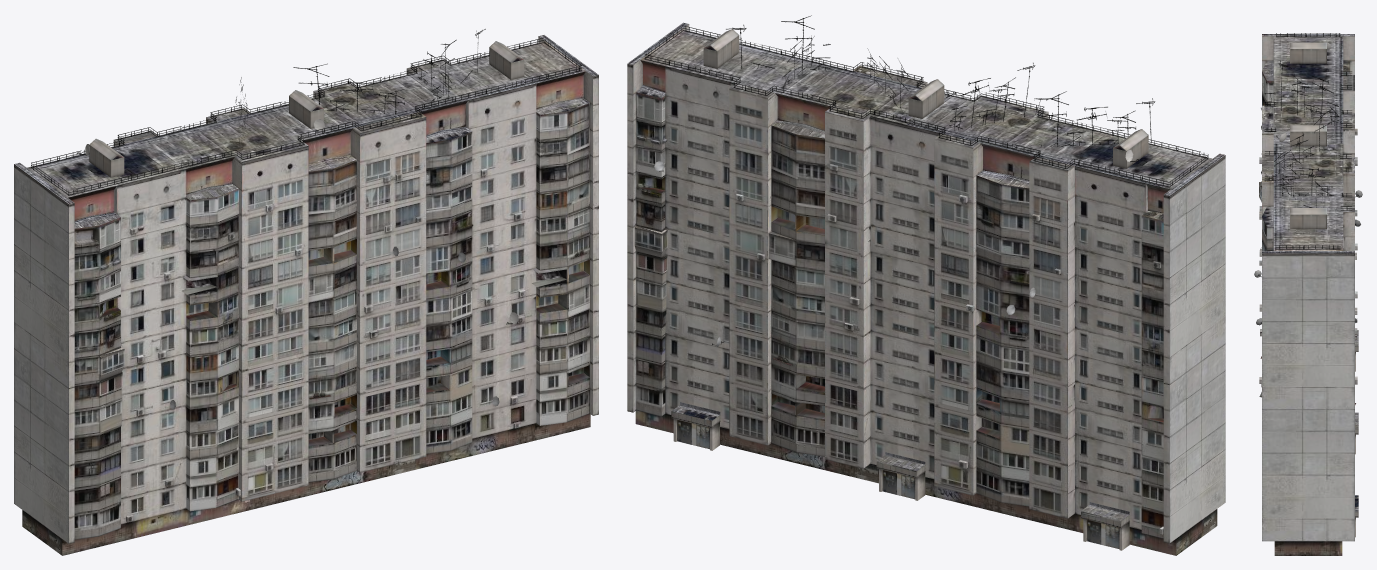
The model's file is panel12.glb.
The picture shows the model from 3 angles, left to right: view 1: azimuth 30°, elevation 25°; view 2: azimuth 150°, elevation 25°; view 3: azimuth 270°, elevation 25°; orthographic projection. The views are drawn at different scales.
Visible parts, largest first — view 1: 12stbuilding1_LOD0_12storeybuilding1_0, 12stbuilding1_LOD0_antenna_0; view 2: 12stbuilding1_LOD0_12storeybuilding1_0, 12stbuilding1_LOD0_antenna_0; view 3: 12stbuilding1_LOD0_12storeybuilding1_0, 12stbuilding1_LOD0_antenna_0.
Boxes of the visible parts, x1,y1,x2,y2 form: 12stbuilding1_LOD0_12storeybuilding1_0: (14,35,598,555); 12stbuilding1_LOD0_antenna_0: (31,29,581,324); 12stbuilding1_LOD0_12storeybuilding1_0: (627,22,1225,555); 12stbuilding1_LOD0_antenna_0: (644,15,1208,345); 12stbuilding1_LOD0_12storeybuilding1_0: (1254,34,1362,555); 12stbuilding1_LOD0_antenna_0: (1257,33,1359,324).
Bounding box in the file's own units: 50.45 × 37.5 × 10.58.
2 materials, 2 textured.
